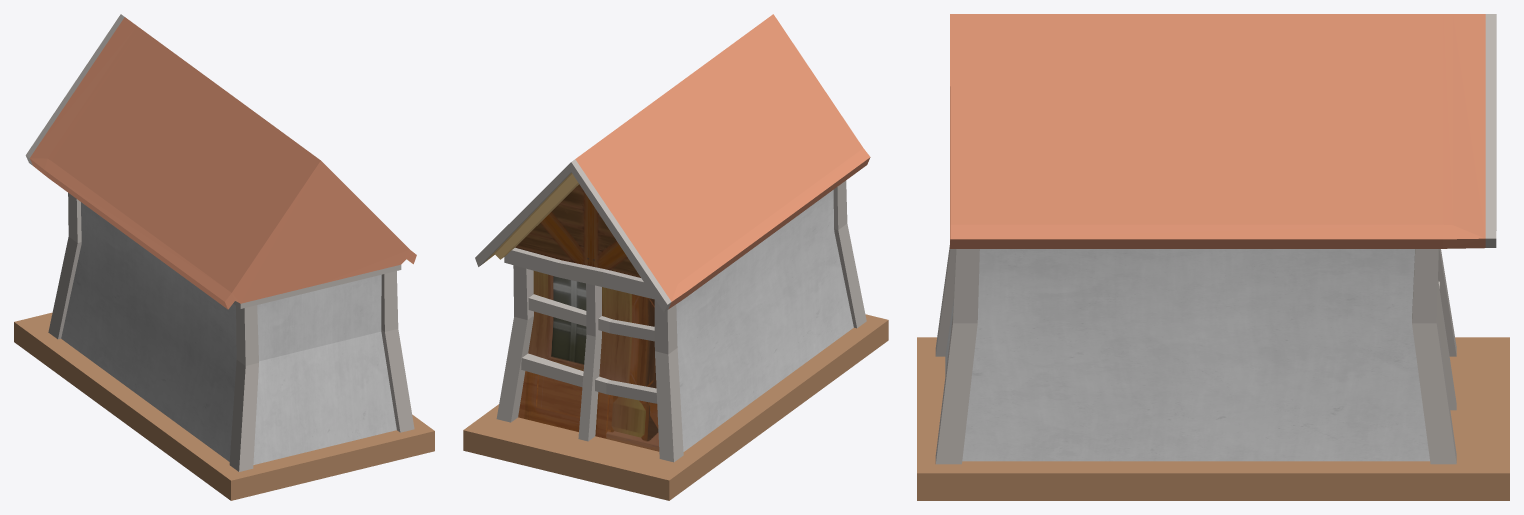
File: BuildingWindow_D_02.fbx
The picture shows the model from 3 angles, left to right: view 1: azimuth 30°, elevation 25°; view 2: azimuth 150°, elevation 25°; view 3: azimuth 270°, elevation 25°; orthographic projection. The views are drawn at different scales.
Visible parts, largest first — view 1: BuildingWindow_D_02; view 2: BuildingWindow_D_02; view 3: BuildingWindow_D_02.
Part boxes in pixels (bbox=[...]): BuildingWindow_D_02: bbox=[14, 14, 434, 500]; BuildingWindow_D_02: bbox=[463, 14, 888, 500]; BuildingWindow_D_02: bbox=[917, 14, 1509, 500].
Bounding box in the file's own units: 198 × 285 × 366.
